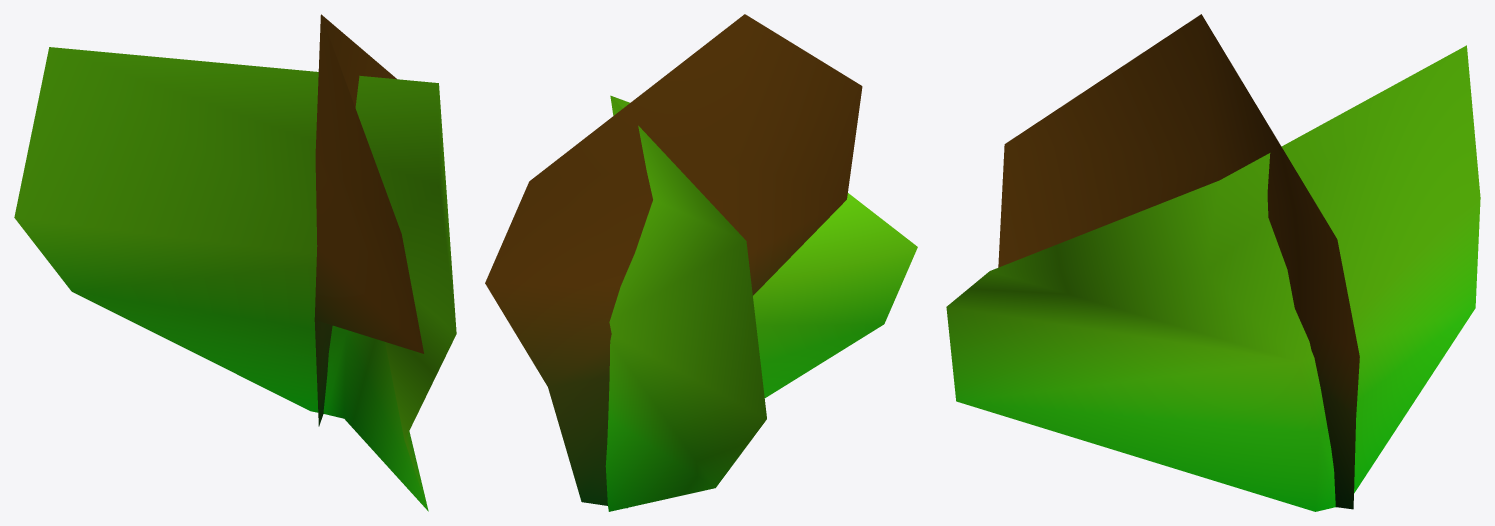
The model's file is Var1Hi11.fbx.
3 renders of one model, left to right at view 1: azimuth 30°, elevation 25°; view 2: azimuth 150°, elevation 25°; view 3: azimuth 270°, elevation 25°, orthographic.
Parts seen in each view (by area): view 1: bend1; view 2: bend1; view 3: bend1.
Part boxes in pixels (box(x1,y1,x2,y2)): bend1: box(14, 14, 456, 511); bend1: box(485, 14, 917, 511); bend1: box(946, 14, 1480, 511).
Bounding box in the file's own units: 1.04 × 1.35 × 1.41.
